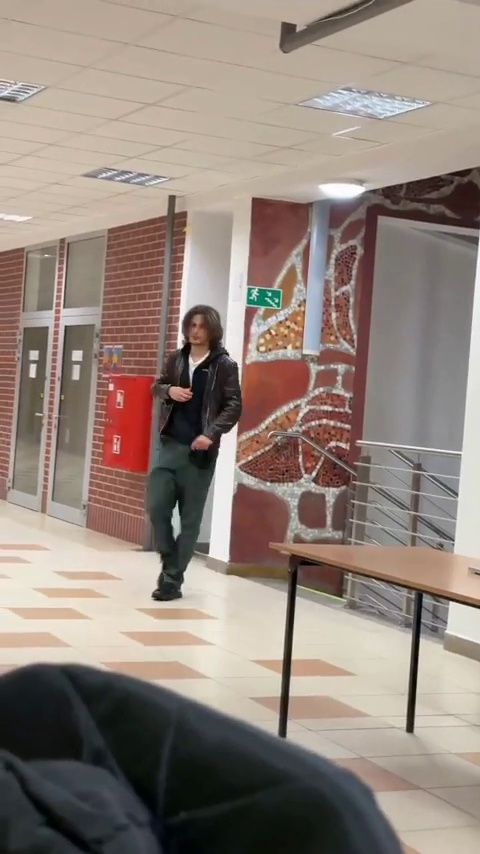no vest: (151, 304, 242, 595)
